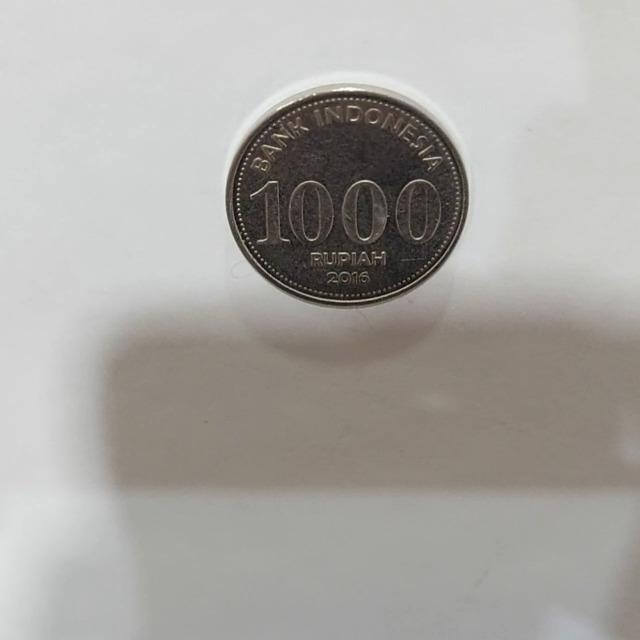Rp100: (224, 81, 469, 308)
